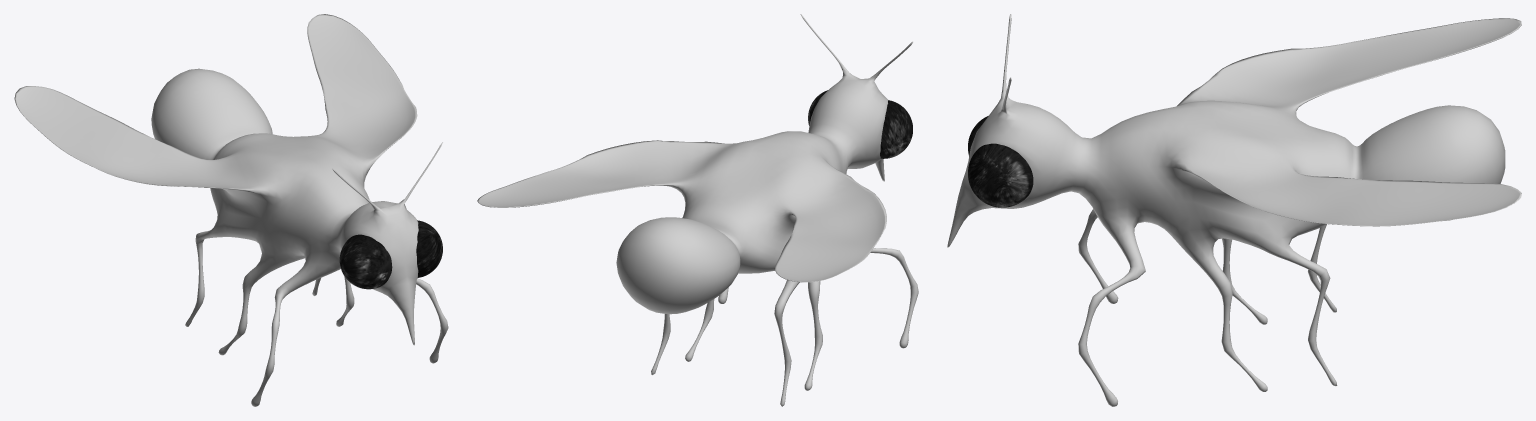
The model's file is Luciernaga.obj.
3 renders of one model, left to right at view 1: azimuth 30°, elevation 25°; view 2: azimuth 150°, elevation 25°; view 3: azimuth 270°, elevation 25°, orthographic. The views are drawn at different scales.
Parts seen in each view (by area): view 1: Group21743, Group32071, Group32070; view 2: Group21743, Group32071; view 3: Group21743, Group32070.
Part boxes in pixels (<box>): Group21743: <box>14,14,448,406</box>; Group32071: <box>339,234,392,289</box>; Group32070: <box>416,220,442,277</box>; Group21743: <box>477,14,918,406</box>; Group32071: <box>880,100,912,158</box>; Group21743: <box>947,14,1521,406</box>; Group32070: <box>968,143,1033,207</box>.
Size of the model in its own units: 2.7 by 2.01 by 3.35.
